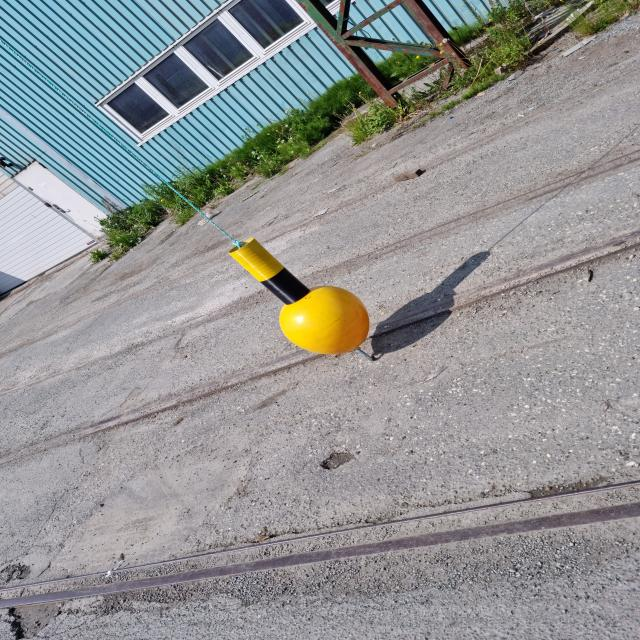west: (228, 237, 372, 356)
